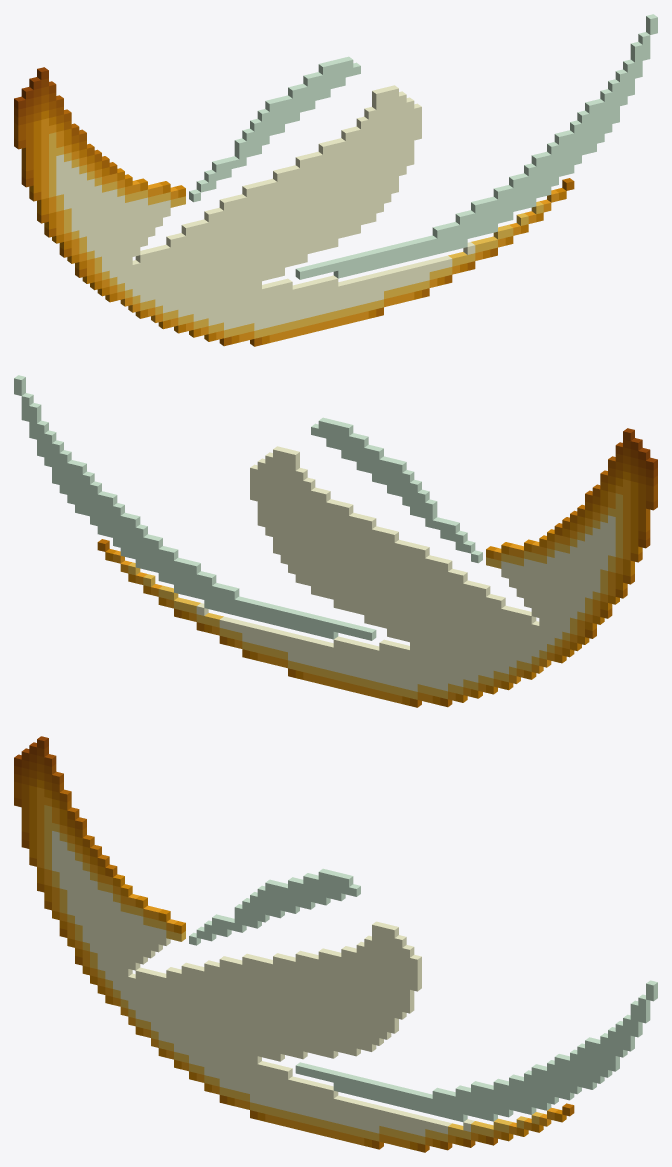
Rendered from Fight_103_2_12_fx.obj.
The picture shows the model from 3 angles, top to bottom: view 1: azimuth 30°, elevation 25°; view 2: azimuth 150°, elevation 25°; view 3: azimuth 330°, elevation 25°; orthographic projection.
Size of the model in its own units: 8.4 by 4.1 by 0.1.
